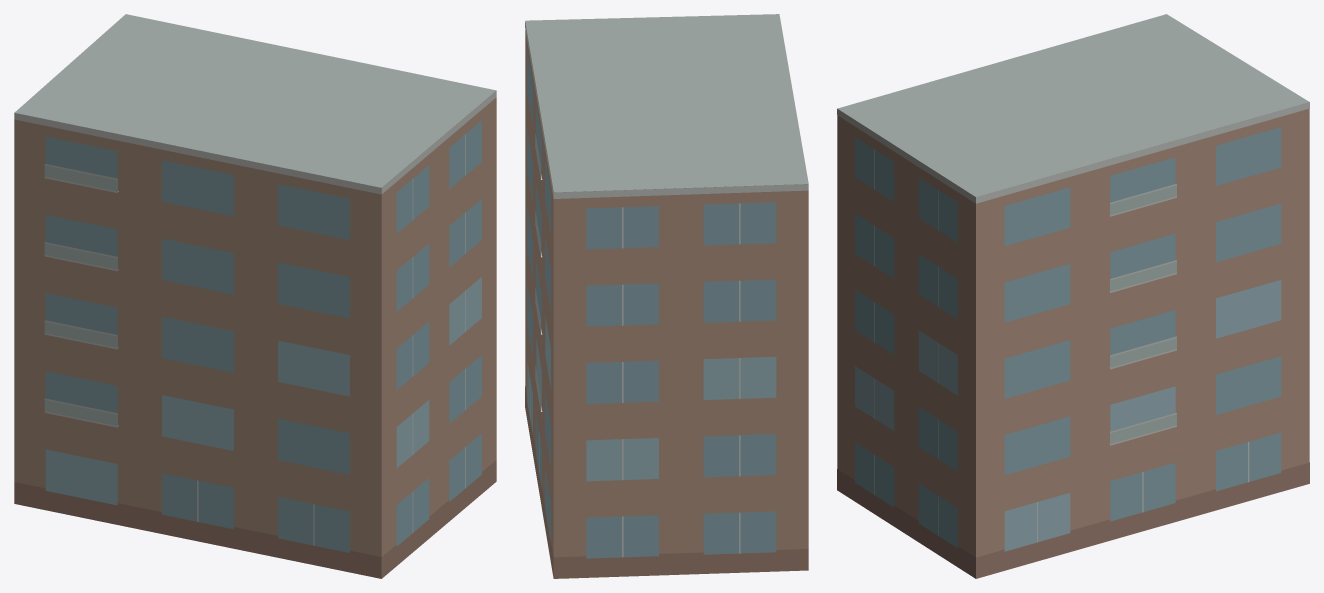
Rendered from survey-upis-32875458.glb.
The picture shows the model from 3 angles, left to right: view 1: azimuth 30°, elevation 25°; view 2: azimuth 150°, elevation 25°; view 3: azimuth 270°, elevation 25°; orthographic projection. The views are drawn at different scales.
Parts seen in each view (by area): view 1: survey-upis-32875458.tmp; view 2: survey-upis-32875458.tmp; view 3: survey-upis-32875458.tmp.
Part boxes in pixels (box(x1,y1,x2,y2)): survey-upis-32875458.tmp: box(14, 14, 496, 578); survey-upis-32875458.tmp: box(525, 14, 808, 578); survey-upis-32875458.tmp: box(837, 14, 1309, 578).
Size of the model in its own units: 14.73 by 14.3 by 16.06.
